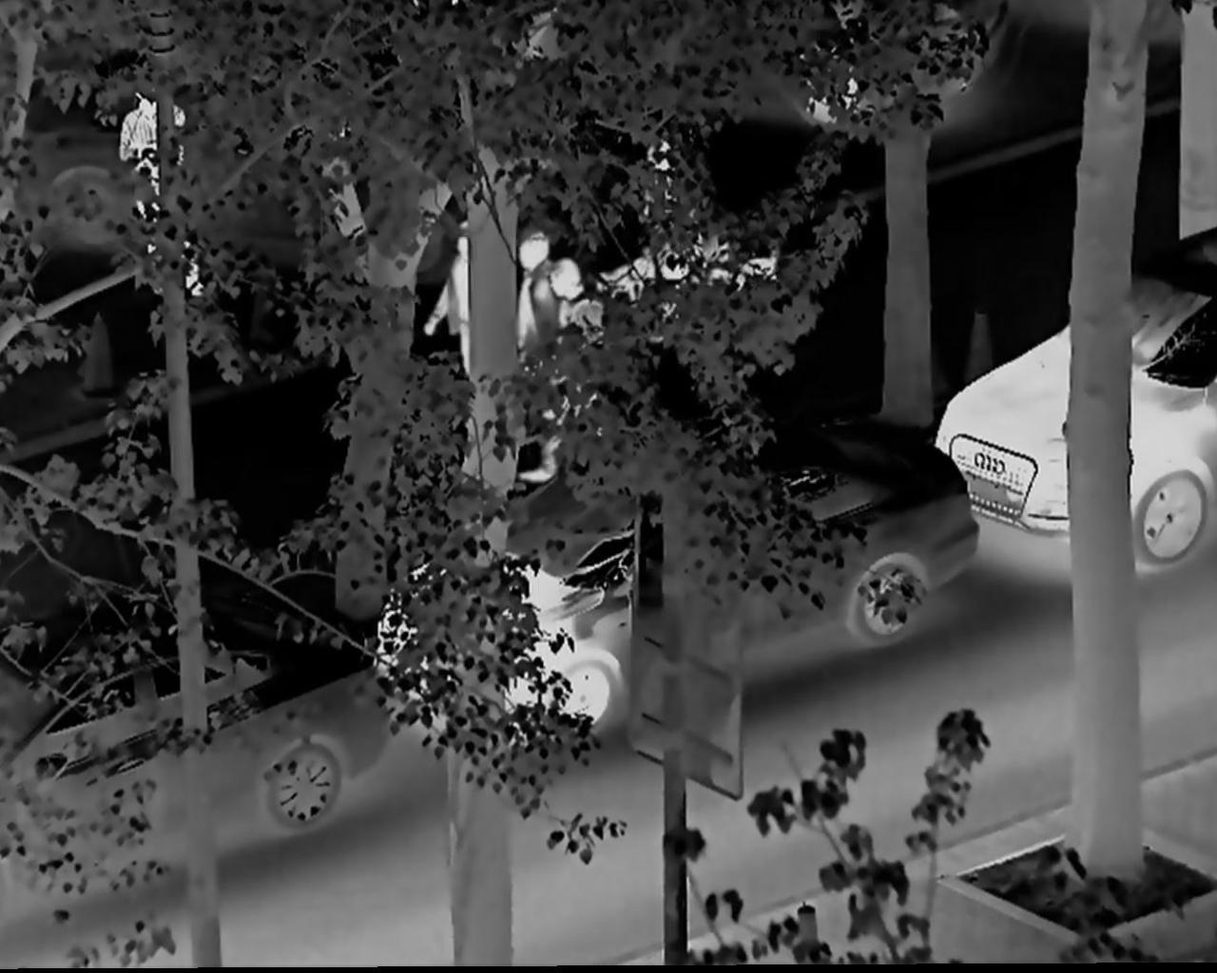person: (118, 89, 207, 316), (531, 261, 606, 492), (426, 223, 504, 440), (505, 224, 560, 483)
